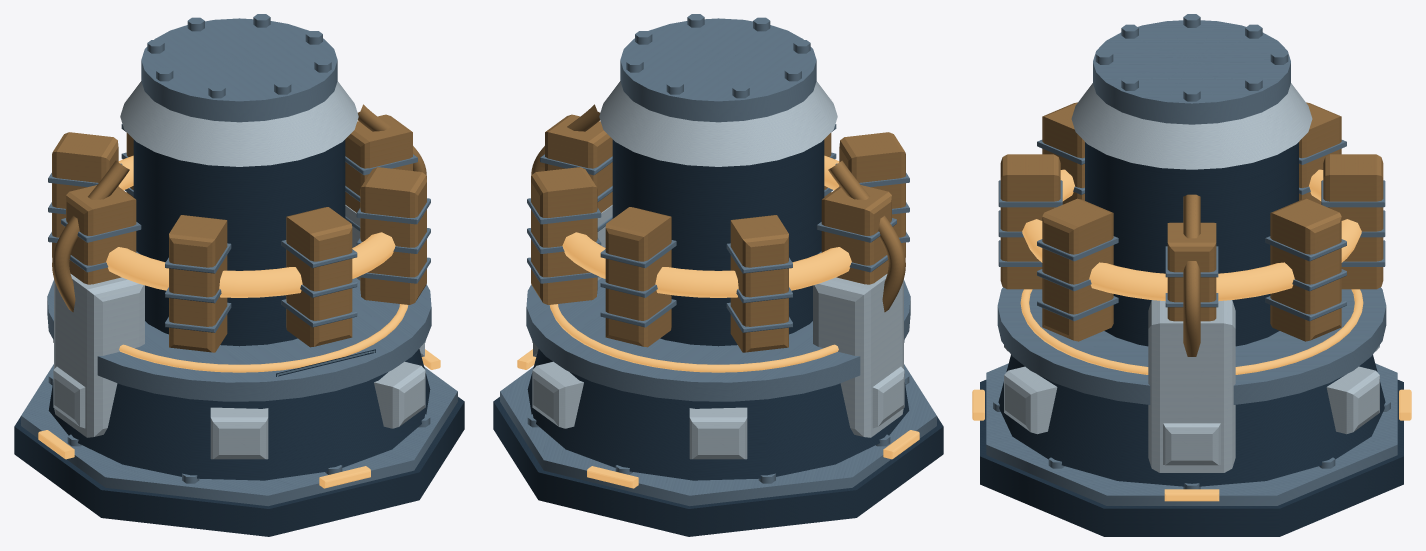
Rendered from reactor.glb.
The picture shows the model from 3 angles, left to right: view 1: azimuth 30°, elevation 25°; view 2: azimuth 150°, elevation 25°; view 3: azimuth 270°, elevation 25°; orthographic projection.
Visible parts, largest first — view 1: Graphite composite, Brushed titanium, Copper heat exchanger, Ceramic titanium armor, Status light (×3); view 2: Graphite composite, Brushed titanium, Copper heat exchanger, Ceramic titanium armor, Status light (×3); view 3: Graphite composite, Brushed titanium, Copper heat exchanger, Ceramic titanium armor, Status light (×3).
Part boxes in pixels (x1,y1,x2,y2): Graphite composite: (14,139,464,536); Brushed titanium: (21,14,457,506); Copper heat exchanger: (52,104,426,352); Ceramic titanium armor: (53,81,425,459); Status light (×3): (38,155,440,488); Graphite composite: (493,139,943,536); Brushed titanium: (500,14,936,506); Copper heat exchanger: (531,104,905,352); Ceramic titanium armor: (532,81,904,459); Status light (×3): (517,155,919,488); Graphite composite: (980,142,1403,536); Brushed titanium: (986,14,1397,505); Copper heat exchanger: (1000,102,1383,356); Ceramic titanium armor: (1004,83,1379,472); Status light (×3): (972,169,1411,501).
Size of the model in its own units: 2.26 by 2.23 by 2.26.
6 materials, 5 textured.
